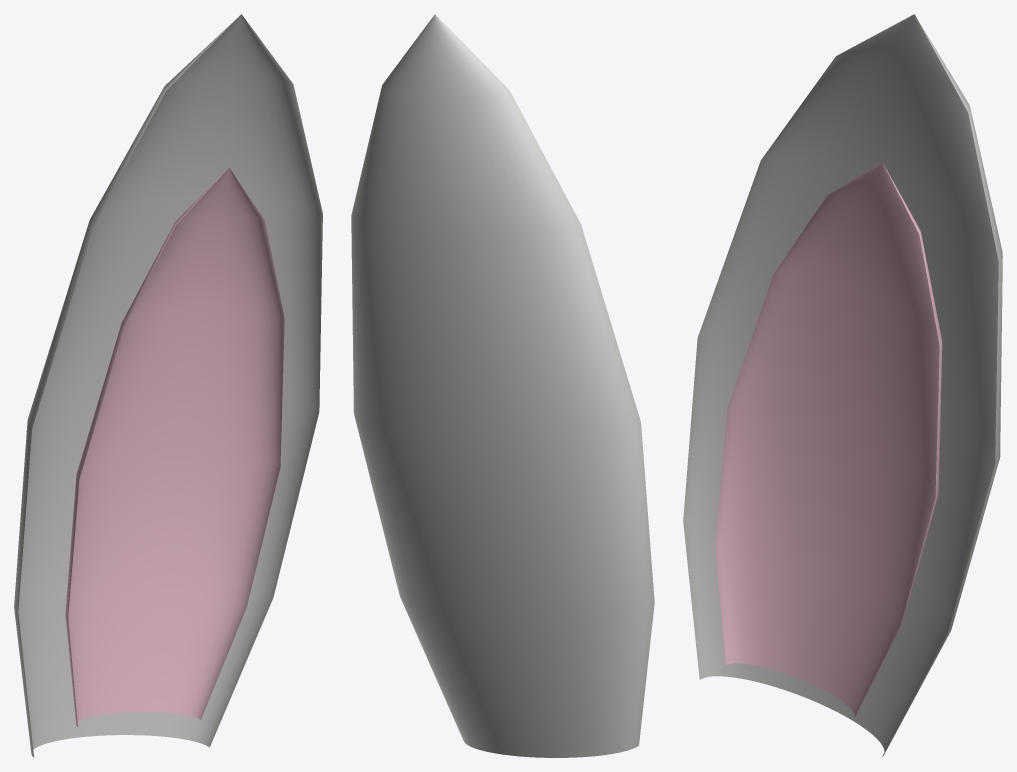
File: bunny_ear_l.glb
3 renders of one model, left to right at view 1: azimuth 30°, elevation 25°; view 2: azimuth 150°, elevation 25°; view 3: azimuth 330°, elevation 25°, orthographic. The views are drawn at different scales.
Size of the model in its own units: 0.0376 by 0.0856 by 0.0101.
